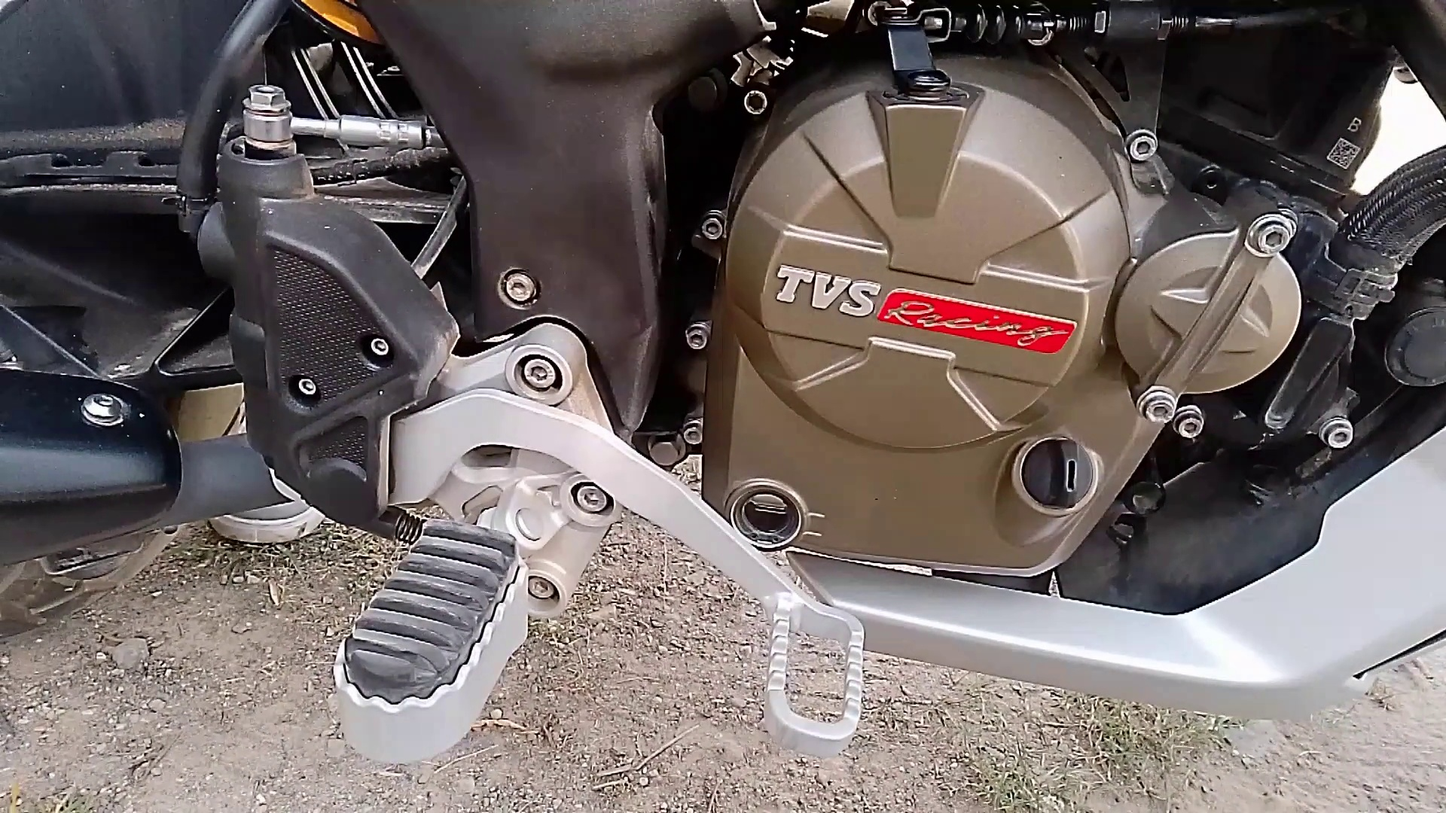engine: (682, 0, 1331, 623)
oil_cap: (1005, 408, 1115, 529)
oil_marker: (719, 454, 847, 570)
